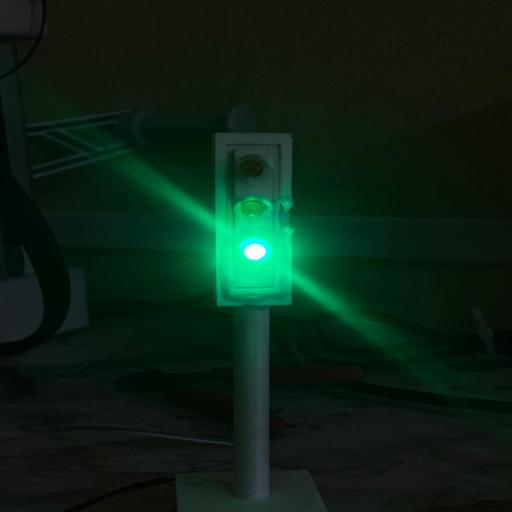Green Light: (244, 244, 266, 260)
